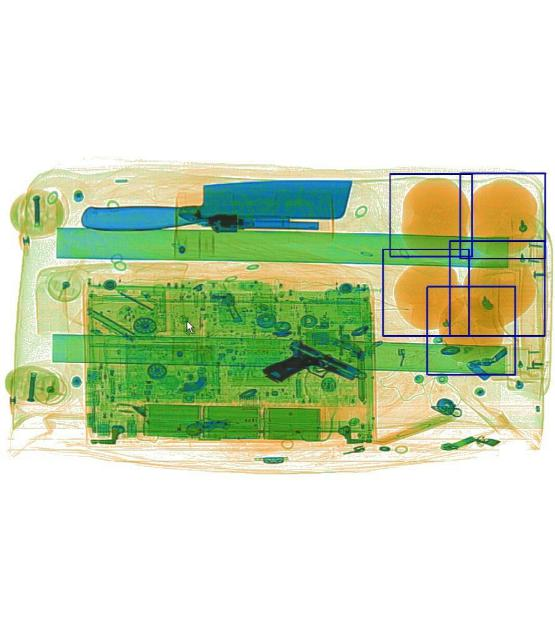Gun: (260, 328, 357, 412), (178, 205, 317, 233)
Knife: (80, 177, 351, 230)
